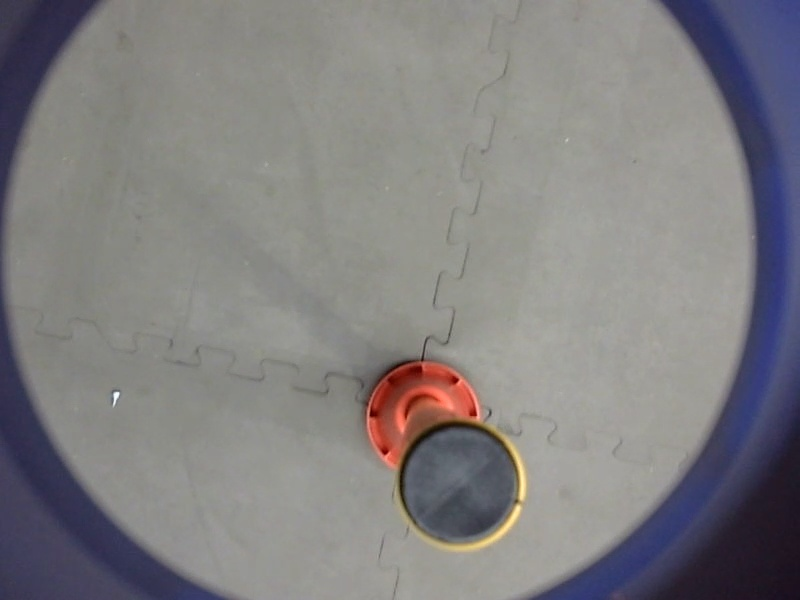tip: (391, 416, 533, 556)
